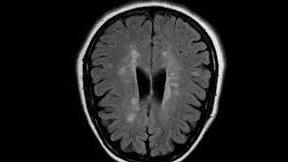Normal_Brain: (43, 4, 229, 162)
